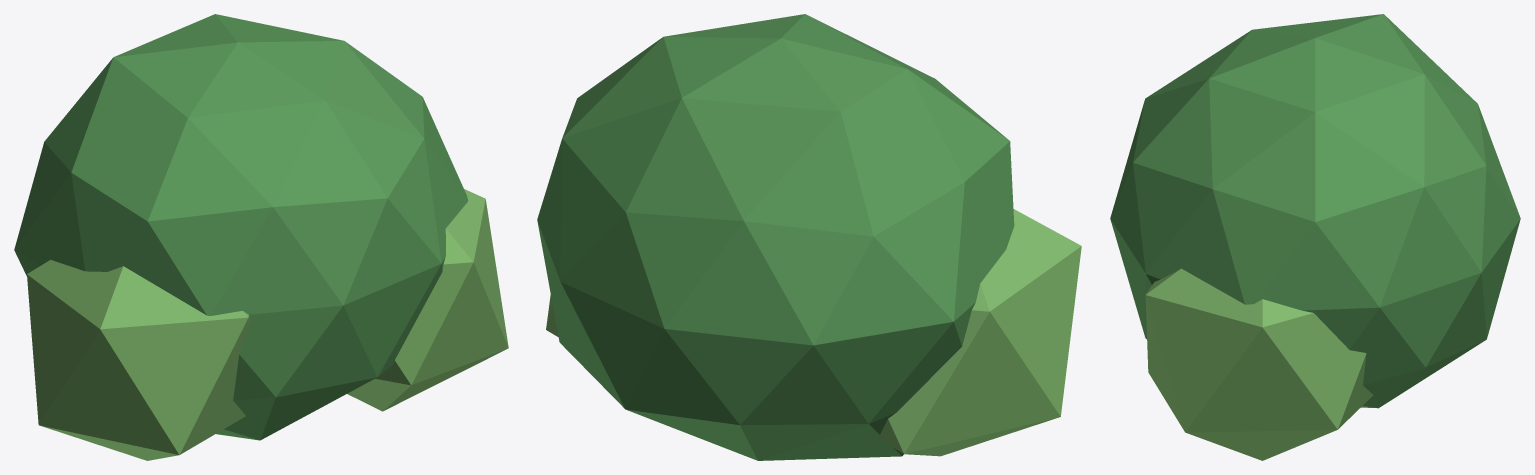
File: bush_01.glb
3 views of the same model, side by side, from view 1: azimuth 30°, elevation 25°; view 2: azimuth 150°, elevation 25°; view 3: azimuth 270°, elevation 25° (orthographic). The views are drawn at different scales.
Visible parts, largest first — view 1: Bush_01; view 2: Bush_01; view 3: Bush_01.
Boxes of the visible parts, x1,y1,x2,y2 form: Bush_01: [14, 14, 508, 460]; Bush_01: [537, 14, 1081, 460]; Bush_01: [1110, 14, 1520, 460].
Size of the model in its own units: 1.9 by 1.54 by 1.56.
